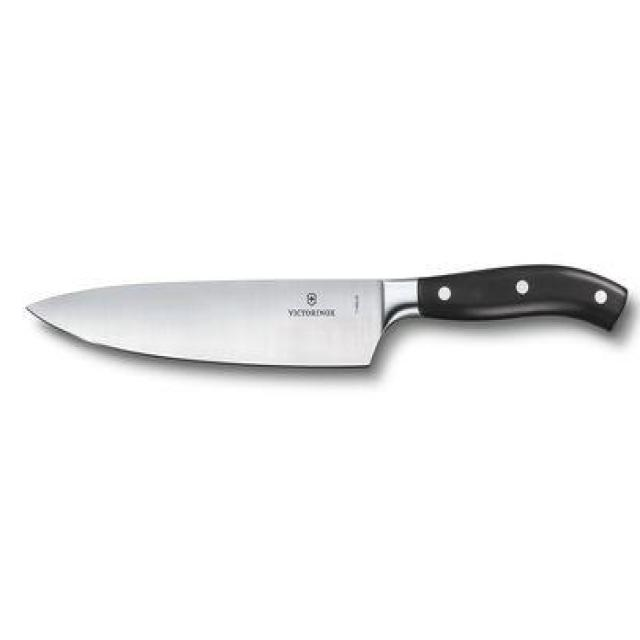Weapon: (27, 264, 626, 367)
